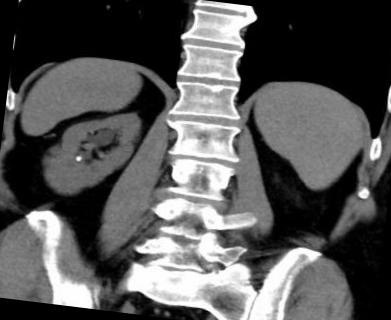Tas_Var: (73, 155, 84, 162)
